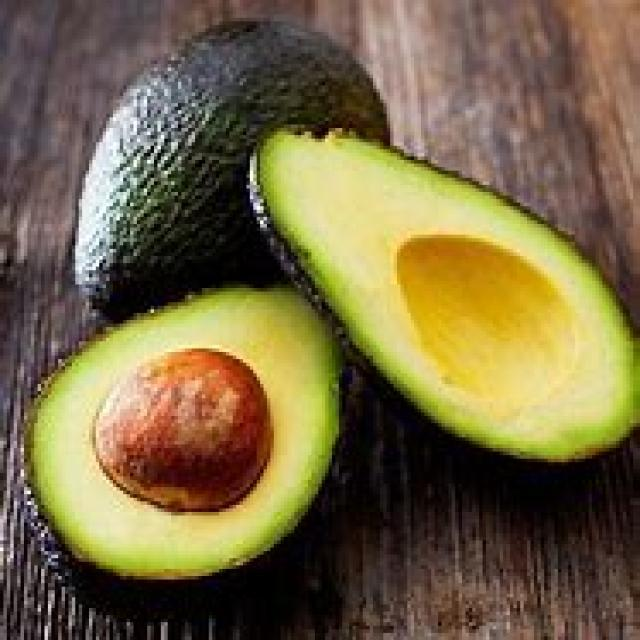avocado: (246, 112, 640, 487), (51, 19, 396, 314), (30, 274, 346, 588)
